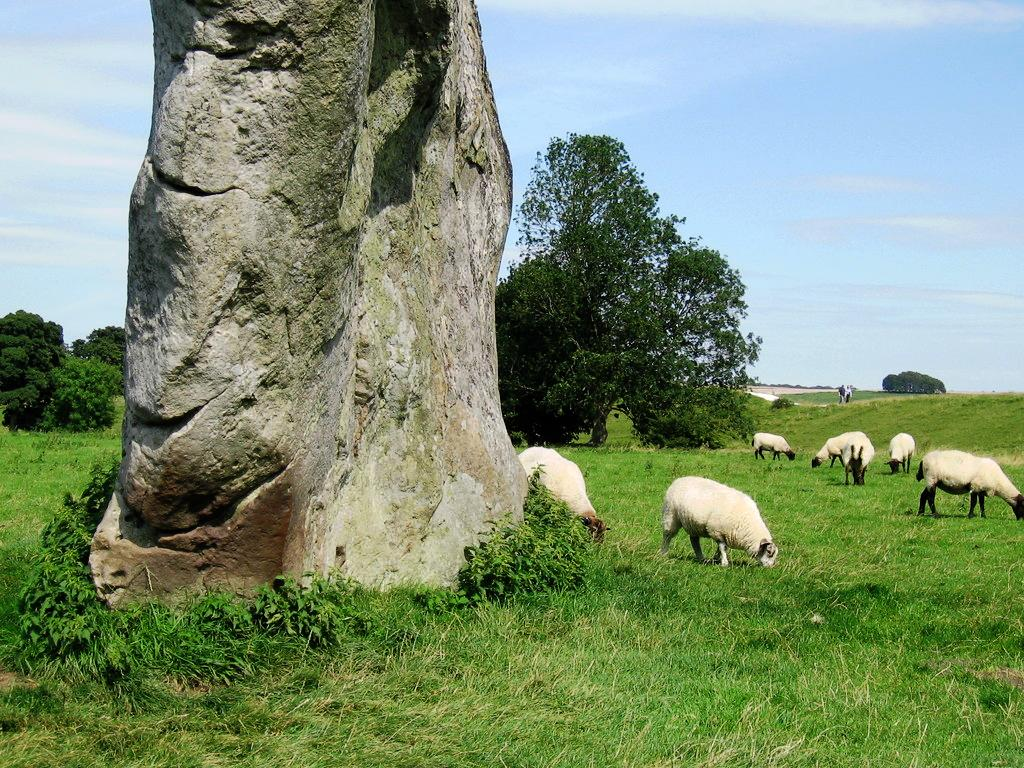Sheep: (664, 475, 777, 568), (519, 446, 609, 548), (916, 452, 1024, 522), (809, 431, 862, 470), (843, 432, 875, 488), (752, 432, 794, 460), (886, 434, 914, 475)
